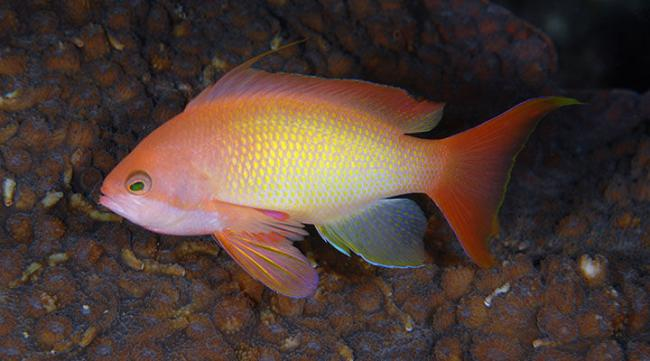fish: (99, 37, 585, 298)
